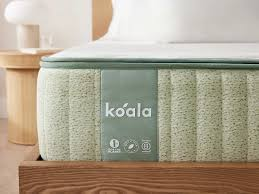bed-matress: (34, 39, 259, 163)
